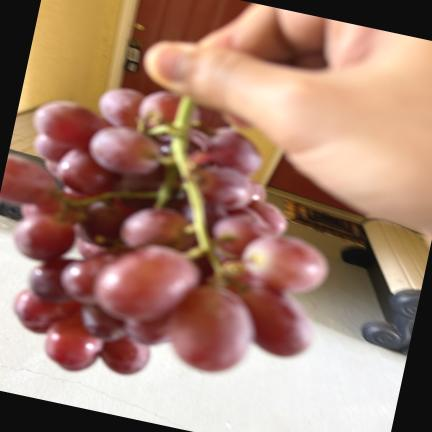grape_cluster: (0, 88, 328, 374)
